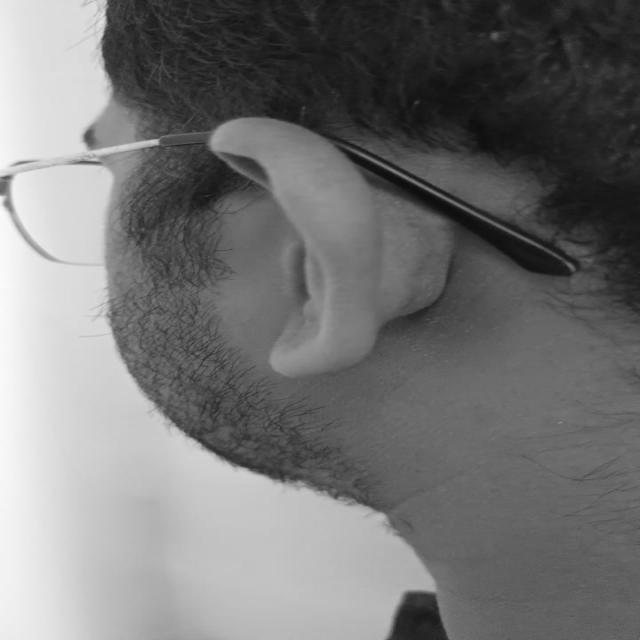ear: (212, 117, 452, 376)
